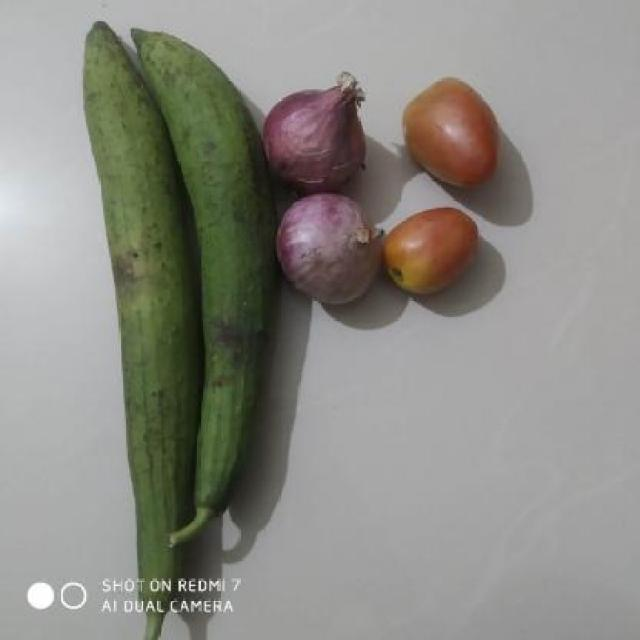Onion: (264, 177, 390, 308), (266, 64, 380, 196)
Sponge Gourd: (66, 18, 272, 640)
Tomato: (397, 58, 515, 195), (392, 197, 497, 305)
